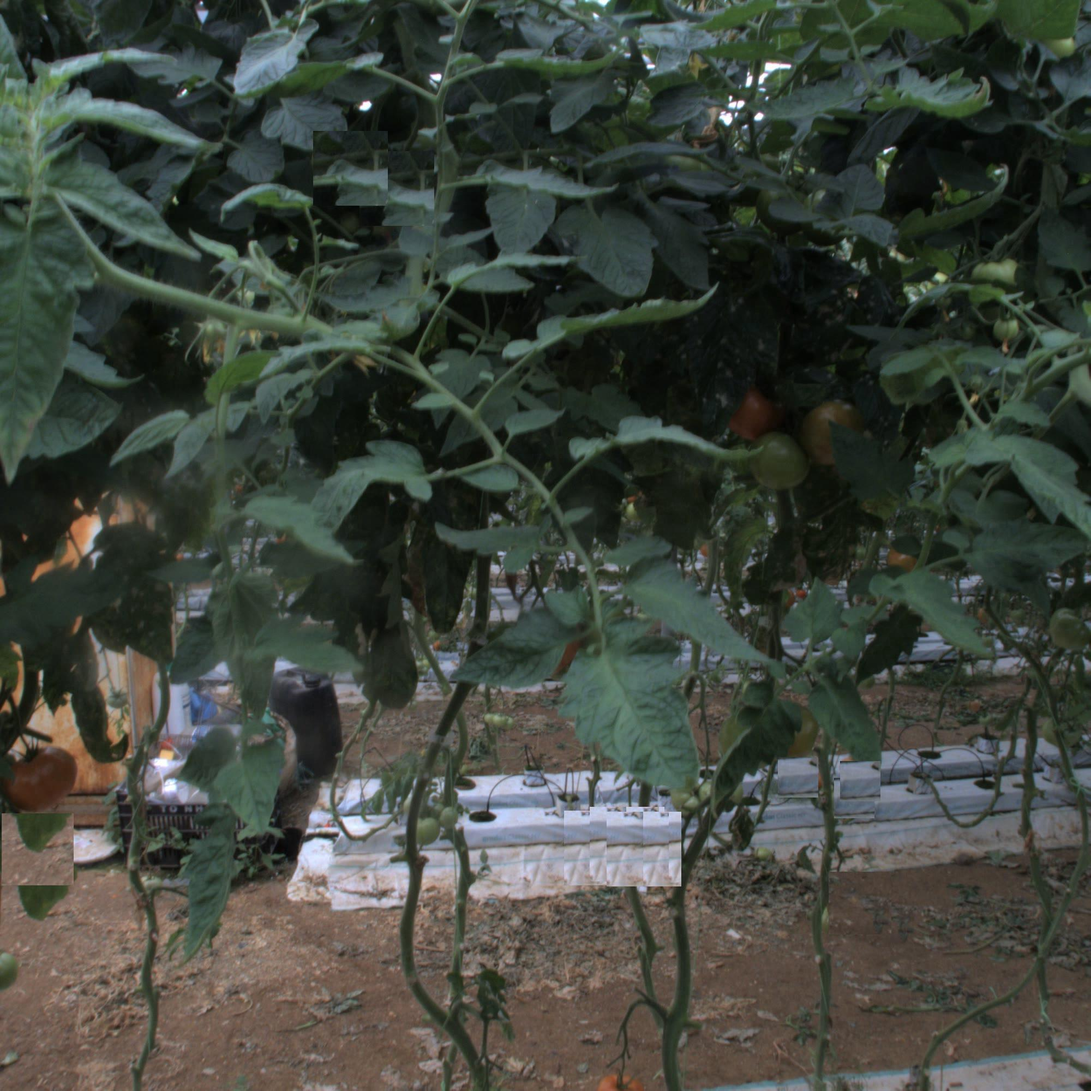['unripe', 'semi-ripe', 'fully-ripe']: (753, 435, 810, 492)
